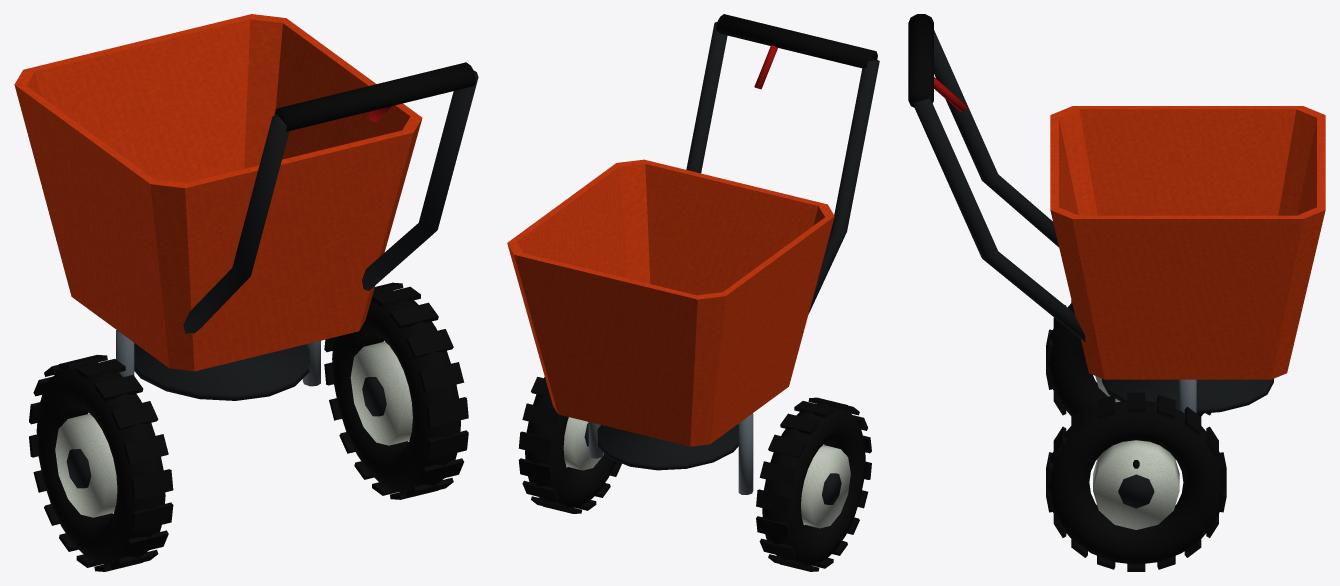
Rendered from BroadcastSpreader.gltf.
The picture shows the model from 3 angles, left to right: view 1: azimuth 30°, elevation 25°; view 2: azimuth 150°, elevation 25°; view 3: azimuth 270°, elevation 25°; orthographic projection. The views are drawn at different scales.
Parts seen in each view (by area): view 1: BroadcastSpreader__Body, BroadcastSpreader__Wheel_-1, BroadcastSpreader, BroadcastSpreader__CutterRotor; view 2: BroadcastSpreader__Body, BroadcastSpreader__Wheel_-1, BroadcastSpreader, BroadcastSpreader__CutterRotor; view 3: BroadcastSpreader__Body, BroadcastSpreader, BroadcastSpreader__Wheel_-1, BroadcastSpreader__CutterRotor.
Boxes of the visible parts, x1,y1,x2,y2 form: BroadcastSpreader__Body: (14, 14, 478, 386); BroadcastSpreader__Wheel_-1: (29, 354, 173, 571); BroadcastSpreader: (324, 282, 468, 499); BroadcastSpreader__CutterRotor: (134, 343, 309, 400); BroadcastSpreader__Body: (507, 14, 879, 494); BroadcastSpreader__Wheel_-1: (756, 397, 871, 571); BroadcastSpreader: (518, 377, 621, 513); BroadcastSpreader__CutterRotor: (597, 424, 738, 470); BroadcastSpreader__Body: (908, 14, 1325, 413); BroadcastSpreader: (1046, 392, 1226, 571); BroadcastSpreader__Wheel_-1: (1046, 300, 1211, 416); BroadcastSpreader__CutterRotor: (1102, 378, 1273, 413).
Size of the model in its own units: 0.6897 by 1 by 0.84.
1 material, 1 textured.
